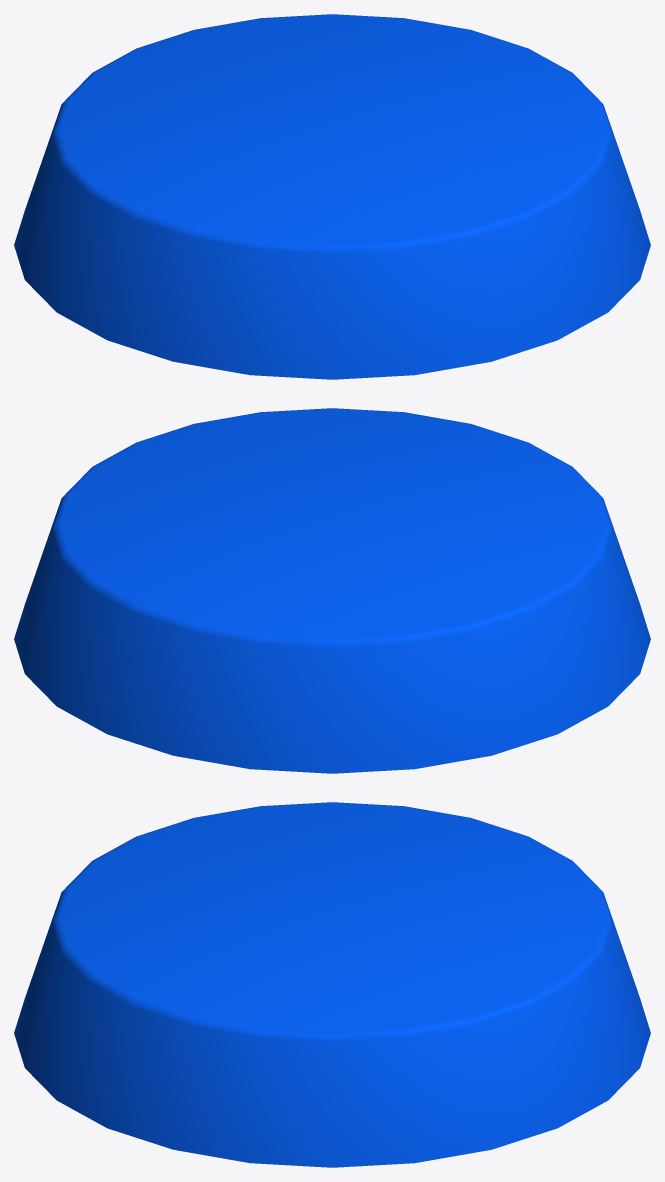
File: central.fbx
The picture shows the model from 3 angles, top to bottom: view 1: azimuth 30°, elevation 25°; view 2: azimuth 150°, elevation 25°; view 3: azimuth 270°, elevation 25°; orthographic projection.
Visible parts, largest first — view 1: central; view 2: central; view 3: central.
Part boxes in pixels (x1,y1,x2,y2): central: [14, 14, 650, 379]; central: [14, 408, 650, 773]; central: [14, 802, 650, 1167].
Size of the model in its own units: 2.5 by 0.5 by 2.5.
